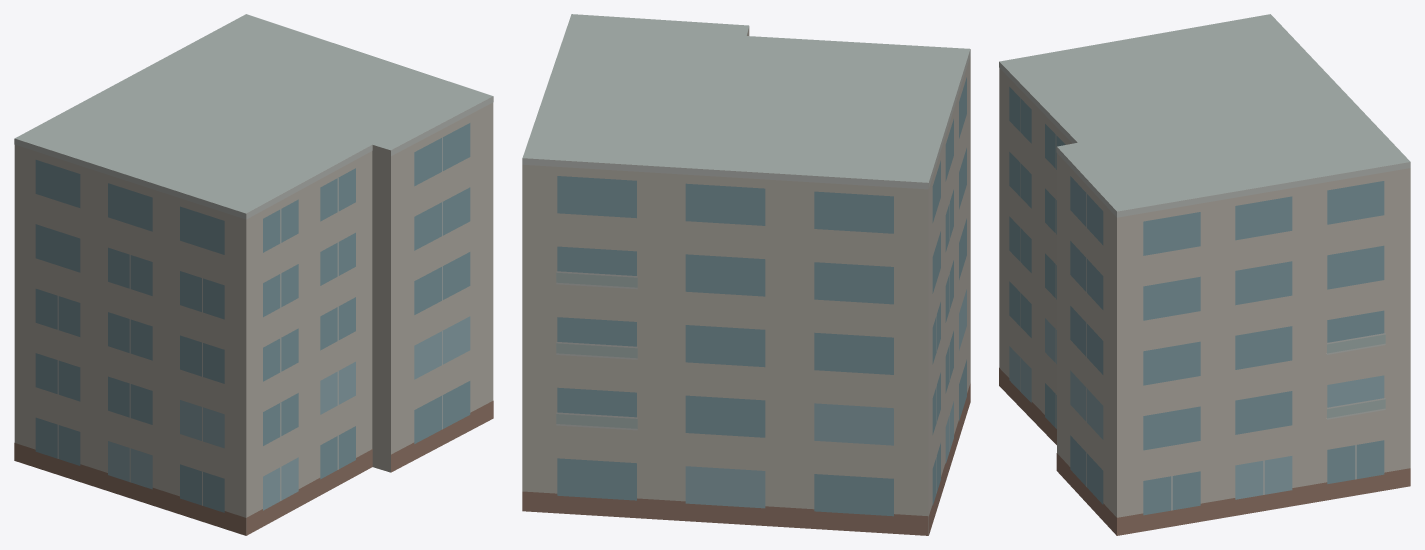
File: survey-upis-33012125.glb
3 views of the same model, side by side, from view 1: azimuth 30°, elevation 25°; view 2: azimuth 150°, elevation 25°; view 3: azimuth 270°, elevation 25° (orthographic). The views are drawn at different scales.
Visible parts, largest first — view 1: survey-upis-33012125.tmp; view 2: survey-upis-33012125.tmp; view 3: survey-upis-33012125.tmp.
Boxes of the visible parts, x1,y1,x2,y2 form: survey-upis-33012125.tmp: (14,14,493,535); survey-upis-33012125.tmp: (522,14,970,535); survey-upis-33012125.tmp: (999,14,1410,535).
Bounding box in the file's own units: 17.07 × 13.05 × 15.02.
